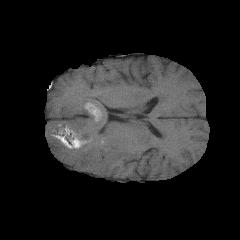glioma: (48, 94, 130, 173)
